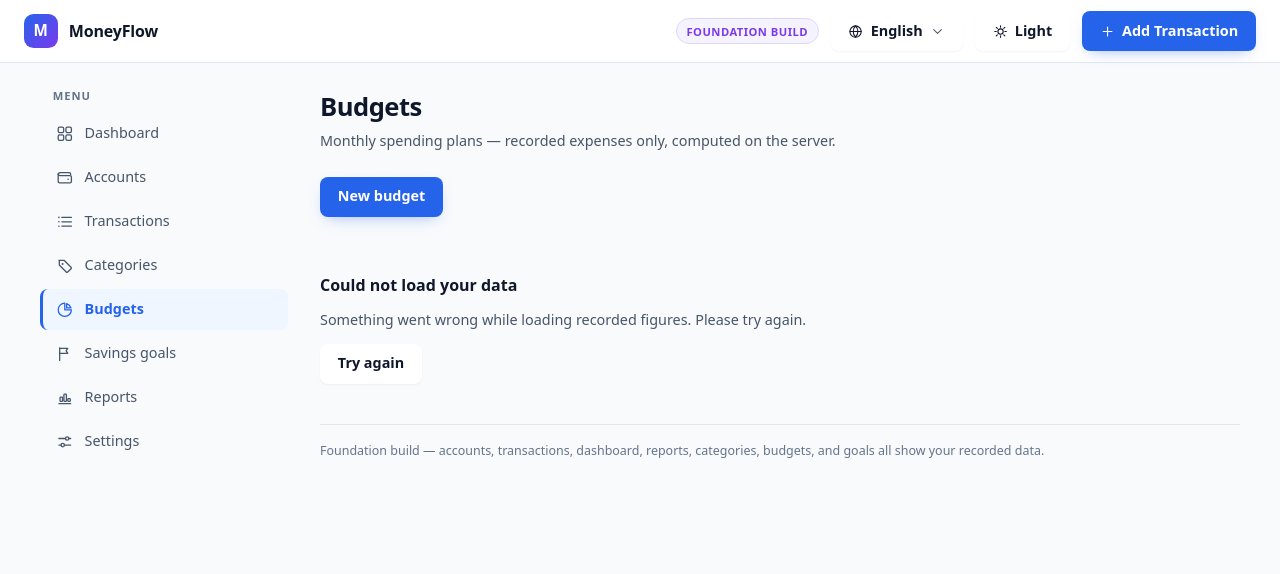
Test: budgets route (wired to the IT-9 budget endpoints) › offers a retry after a failure and renders the loaded budgets
Check: the text "Could not load your data" is shown, box [320,272,517,297]
Step 1. Click the button "Try again" → click(371, 364), box [320,344,422,384]
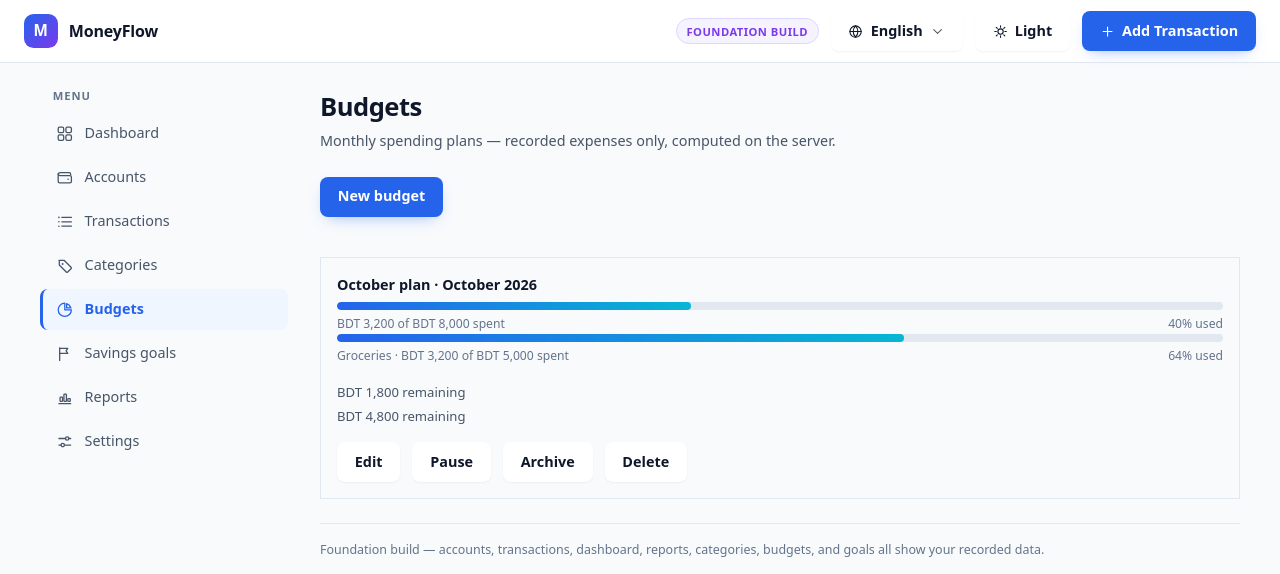
Check: the text "October plan · October 2026" is shown, box [337,274,537,296]
